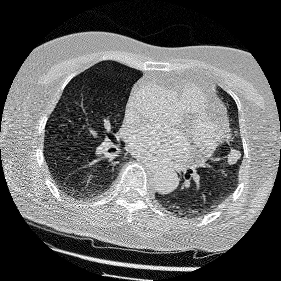nodule: (227, 150, 241, 164)
